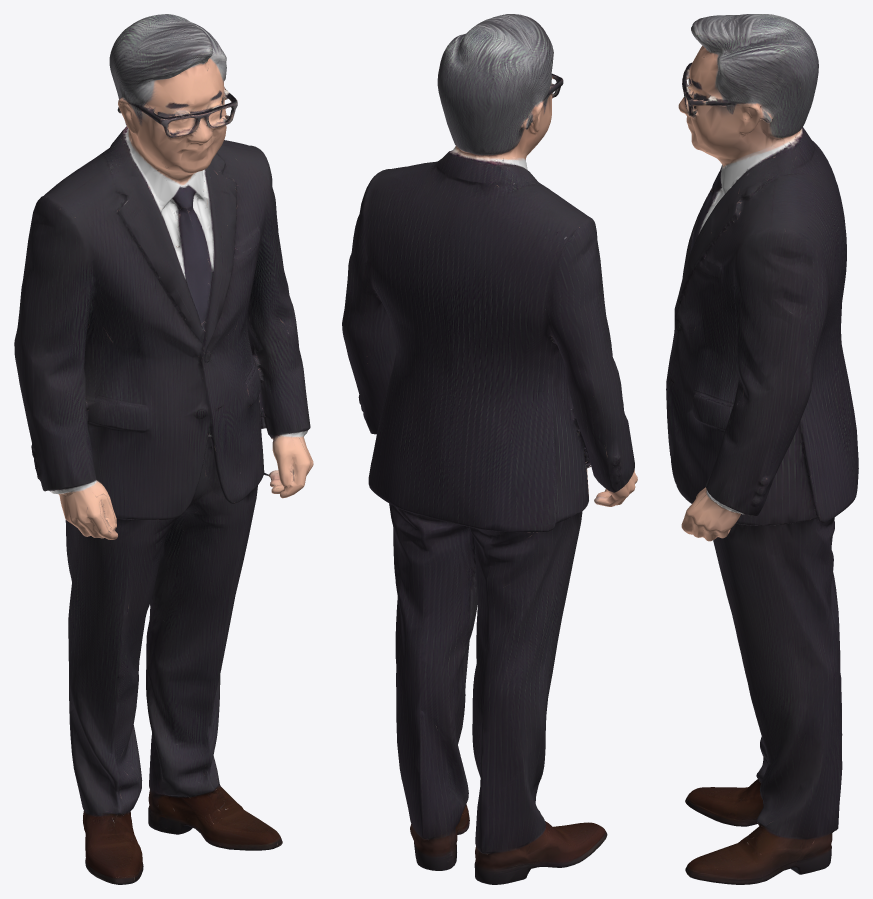
File: cc-wei.glb
3 views of the same model, side by side, from view 1: azimuth 30°, elevation 25°; view 2: azimuth 150°, elevation 25°; view 3: azimuth 270°, elevation 25° (orthographic).
Visible parts, largest first — view 1: Mesh_0; view 2: Mesh_0; view 3: Mesh_0.
Boxes of the visible parts, <box> form: Mesh_0: <box>14,14,313,884</box>; Mesh_0: <box>342,14,637,884</box>; Mesh_0: <box>666,14,858,884</box>.
Bounding box in the file's own units: 0.6401 × 1.91 × 0.4015.
1 material, 1 textured.
